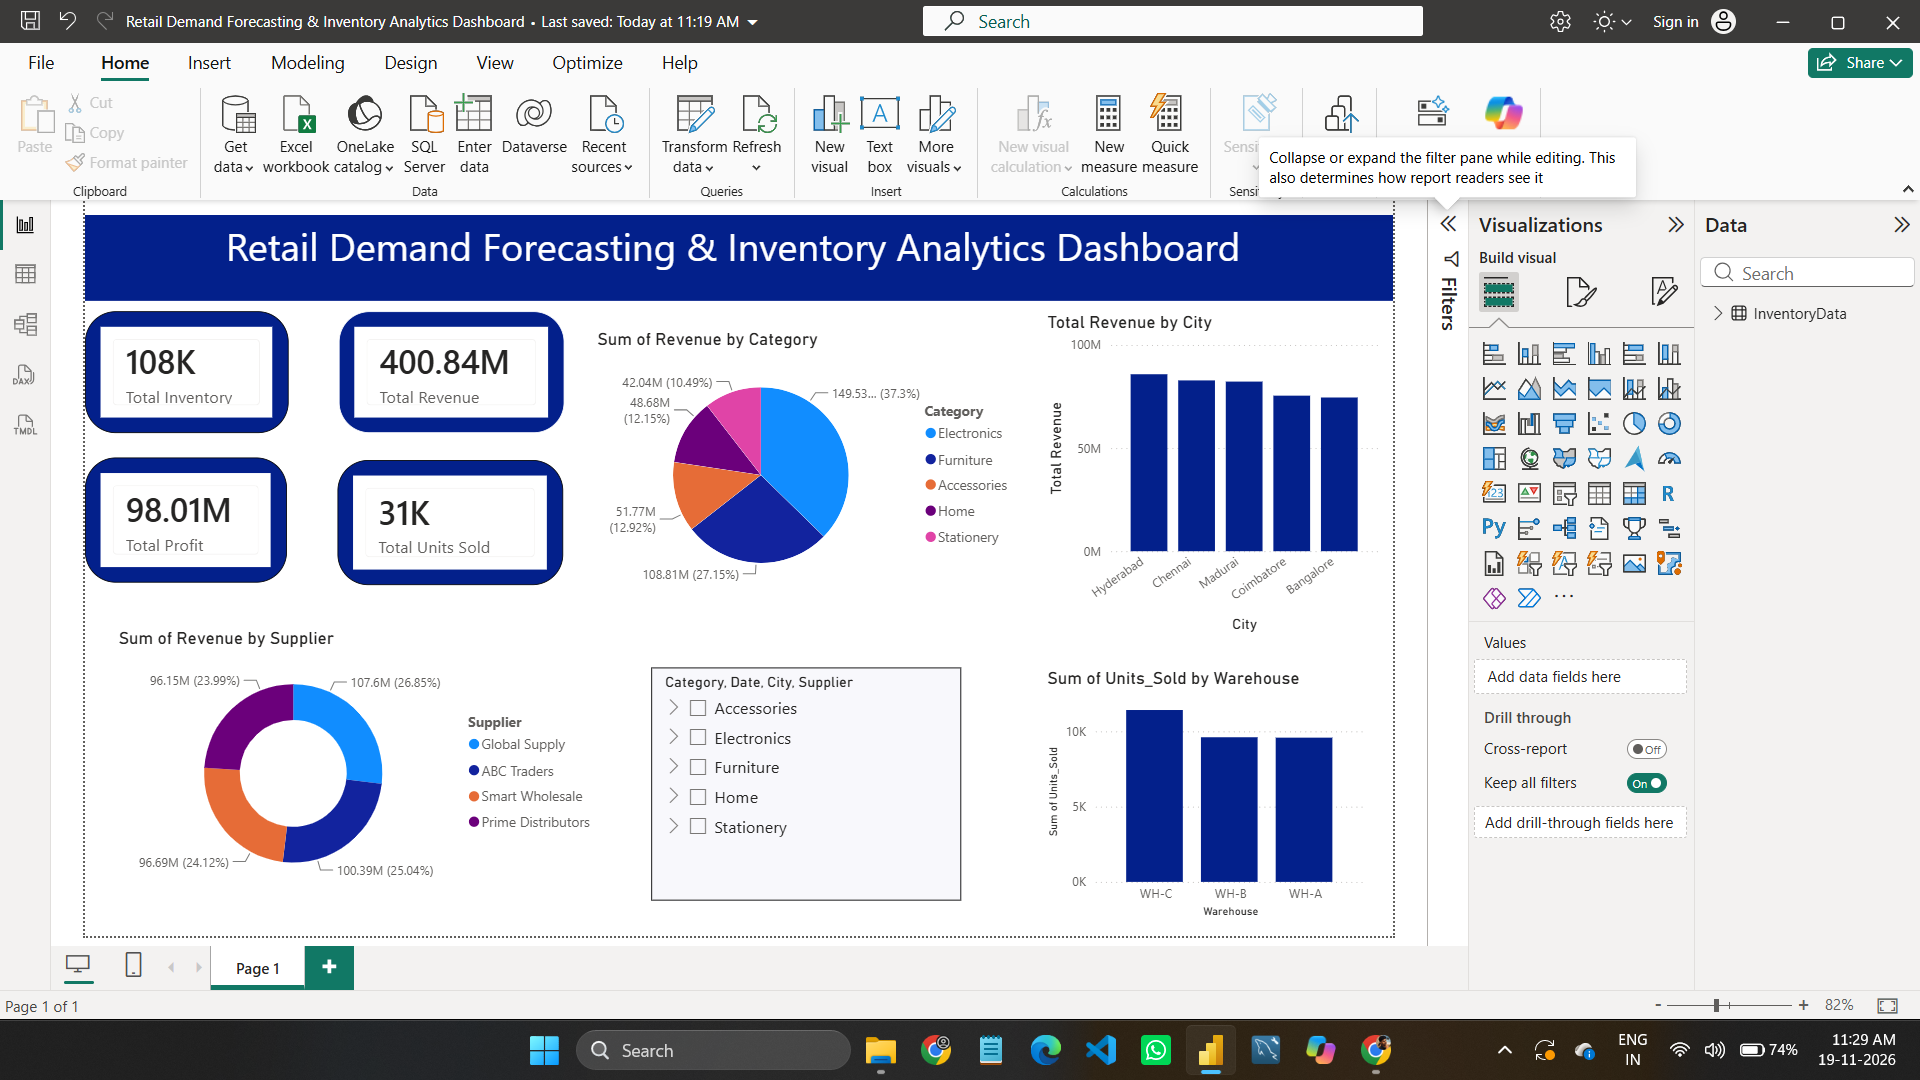

The dashboard page shown, as its layout file describes it:
{"tool":"powerbi","page":{"name":"Page 1","canvas":[1280,720],"ordinal":0},"visuals":[{"type":"textbox","box":[0,15.1,1280.3,83.7],"z":0},{"type":"cardVisual","fields":{"Data":["InventoryData.Total Inventory"]},"box":[0,108.4,199,119.4],"z":1000},{"type":"cardVisual","fields":{"Data":["InventoryData.Total Units Sold"]},"box":[247,253.9,220.9,122.1],"z":2000},{"type":"cardVisual","fields":{"Data":["InventoryData.Total revenue"]},"box":[248.4,108.4,220.9,119.4],"z":3000},{"type":"cardVisual","fields":{"Data":["InventoryData.Total Profit"]},"box":[0,252.5,197.6,122.1],"z":4000},{"type":"pieChart","fields":{"Category":["InventoryData.Category"],"Y":["Sum(InventoryData.Revenue)"]},"box":[496.7,126.2,419.9,267.6],"z":5000},{"type":"clusteredColumnChart","fields":{"Category":["InventoryData.City"],"Y":["InventoryData.Total Revenue"]},"box":[937.2,108.4,333.4,319.7],"z":6000},{"type":"donutChart","fields":{"Category":["InventoryData.Supplier"],"Y":["Sum(InventoryData.Revenue)"]},"box":[27.8,418.1,480.6,266.7],"z":7000},{"type":"lineStackedColumnComboChart","fields":{"Category":["InventoryData.Warehouse"],"Y":["Sum(InventoryData.Units_Sold)"]},"box":[937.2,456.9,321.1,249.7],"z":8000},{"type":"slicer","fields":{"Values":["InventoryData.Category","InventoryData.Date","InventoryData.City","InventoryData.Supplier"]},"box":[554.4,456.9,303.3,227.8],"z":9000}]}

Visuals, with their boxes on the page's 1280x720 design canvas (x1, y1, x2, y2). These are canvas units, not pixel positions in the 1920x1080 screenshot, which may show the page scaled, cropped or inside an application window:
textbox: {"x1": 0, "y1": 15, "x2": 1280, "y2": 99}
cardVisual - InventoryData.Total Inventory: {"x1": 0, "y1": 108, "x2": 199, "y2": 228}
cardVisual - InventoryData.Total Units Sold: {"x1": 247, "y1": 254, "x2": 468, "y2": 376}
cardVisual - InventoryData.Total revenue: {"x1": 248, "y1": 108, "x2": 469, "y2": 228}
cardVisual - InventoryData.Total Profit: {"x1": 0, "y1": 252, "x2": 198, "y2": 375}
pieChart - InventoryData.Category x Sum(InventoryData.Revenue): {"x1": 497, "y1": 126, "x2": 917, "y2": 394}
clusteredColumnChart - InventoryData.City x InventoryData.Total Revenue: {"x1": 937, "y1": 108, "x2": 1271, "y2": 428}
donutChart - InventoryData.Supplier x Sum(InventoryData.Revenue): {"x1": 28, "y1": 418, "x2": 508, "y2": 685}
lineStackedColumnComboChart - InventoryData.Warehouse x Sum(InventoryData.Units_Sold): {"x1": 937, "y1": 457, "x2": 1258, "y2": 707}
slicer - InventoryData.Category x InventoryData.Date: {"x1": 554, "y1": 457, "x2": 858, "y2": 685}
